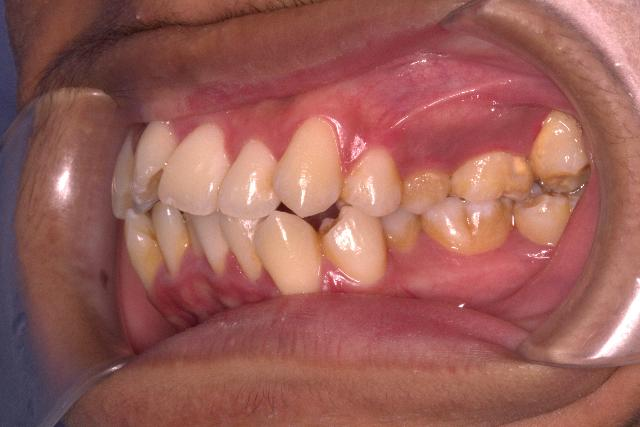canine class II 1/4: (254, 114, 390, 298)
molar class III 1/2: (420, 147, 536, 260)
